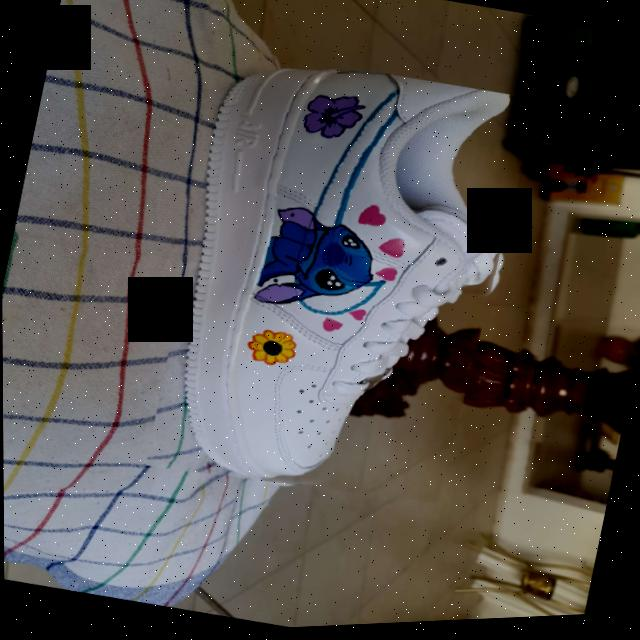shoe: (142, 39, 541, 533)
